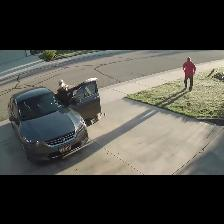person: (57, 80, 74, 105), (183, 57, 195, 90)
